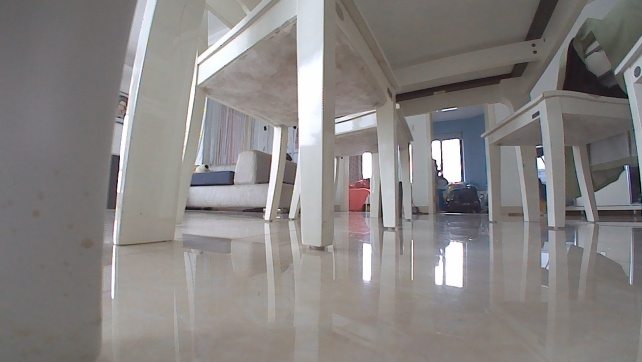dining_table1: (0, 0, 641, 360)
sofe1: (184, 147, 298, 212)
